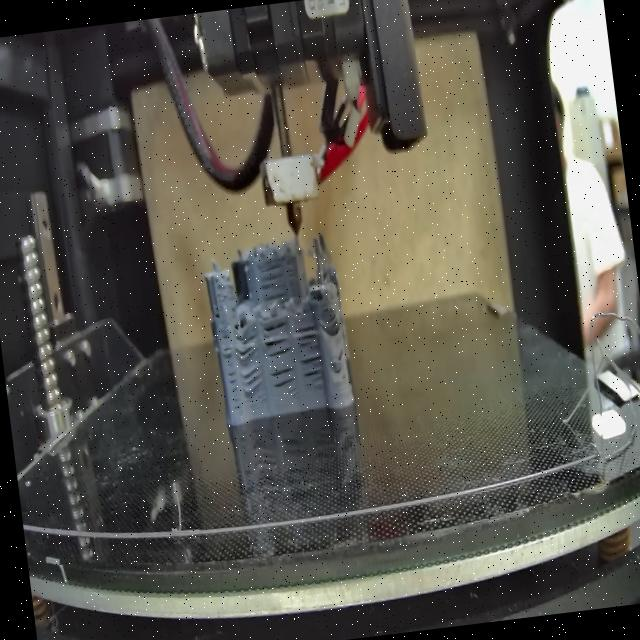cracks: (221, 330, 242, 415), (232, 314, 266, 366), (256, 260, 291, 302), (240, 361, 268, 406), (268, 362, 300, 401), (262, 319, 292, 358), (298, 352, 326, 393), (294, 315, 322, 350), (326, 314, 344, 340), (333, 345, 348, 371), (214, 304, 221, 321)
